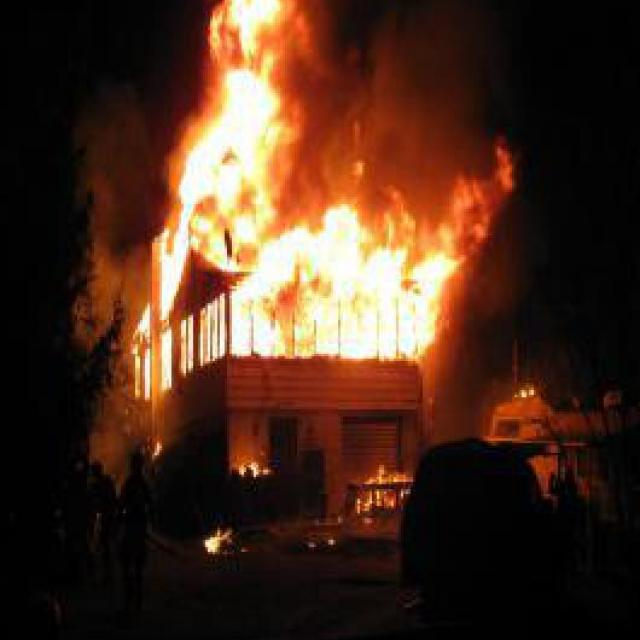fire: (148, 0, 476, 367), (353, 465, 413, 528), (198, 522, 232, 566), (235, 448, 272, 486), (502, 380, 540, 412)
